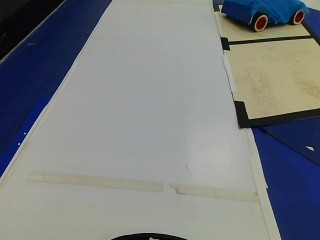car: (218, 1, 308, 32)
